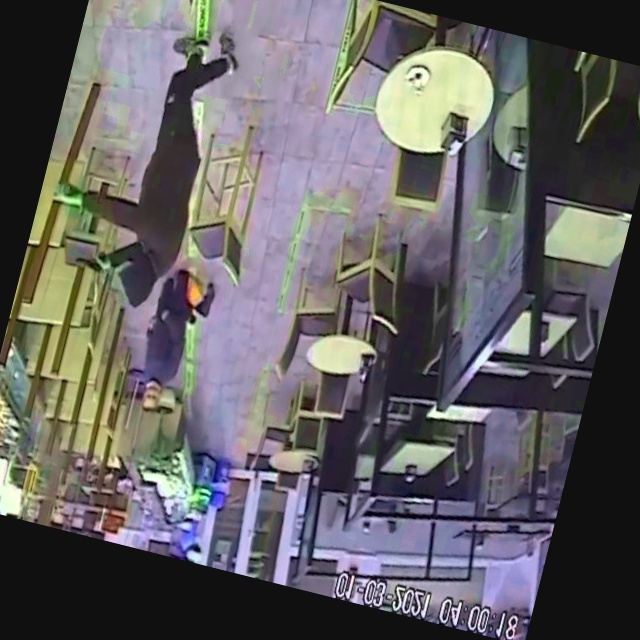gun: (63, 236, 117, 286)
